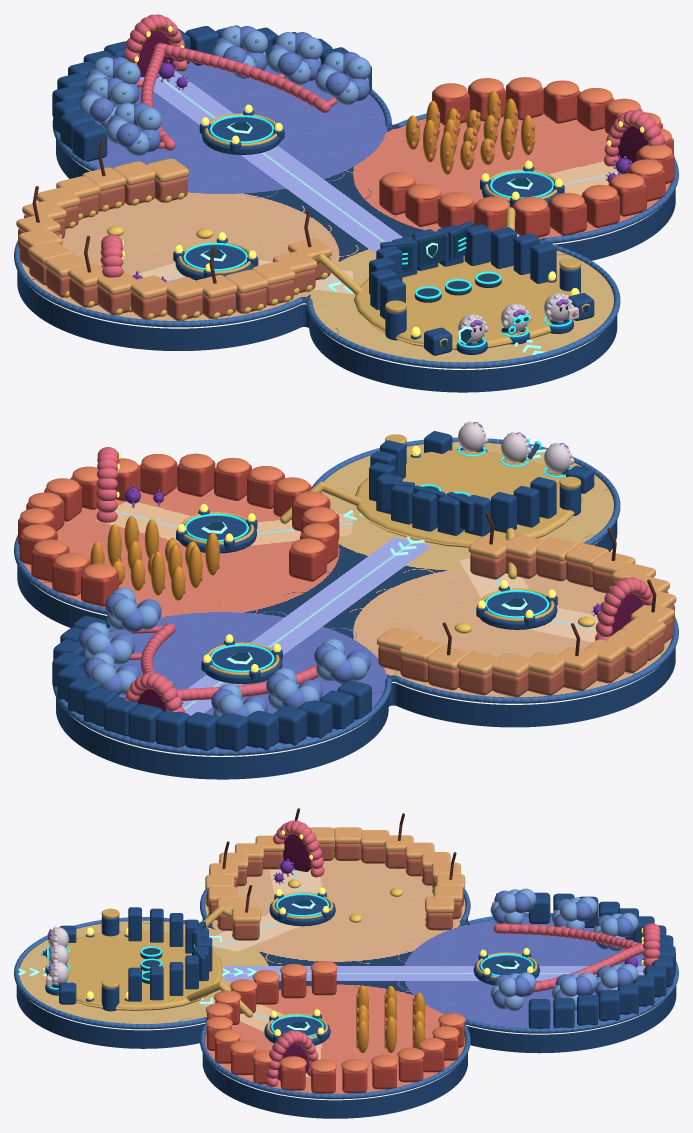
File: patrol.glb
3 renders of one model, top to bottom at view 1: azimuth 30°, elevation 25°; view 2: azimuth 150°, elevation 25°; view 3: azimuth 270°, elevation 25°, orthographic. The views are drawn at different scales.
Visible parts, largest first — view 1: Piso pintado, commandblue, skinorange, gutred, commandgold, skindeep, gutlight, lunglight, rimblue, salmon, lungblue, orange2 (+10 smaller); view 2: Piso pintado, commandblue, skinorange, gutred, commandgold, skindeep, gutlight, rimblue, salmon, lunglight, orange2, lungblue (+8 smaller); view 3: Piso pintado, commandblue, commandgold, gutred, skinorange, gutlight, rimblue, salmon, skindeep, lunglight, lungblue, orange2 (+4 smaller).
Part boxes in pixels (box(x1,y1,x2,y2)): Piso pintado: box(21, 61, 670, 362); commandblue: box(17, 25, 675, 392); skinorange: box(16, 158, 332, 300); gutred: box(379, 83, 674, 237); commandgold: box(178, 113, 589, 349); skindeep: box(18, 23, 653, 320); gutlight: box(381, 77, 672, 213); lunglight: box(79, 26, 370, 156); rimblue: box(14, 89, 678, 368); salmon: box(100, 14, 665, 277); lungblue: box(81, 26, 369, 152); orange2: box(405, 91, 534, 174); Piso pintado: box(24, 442, 671, 749); commandblue: box(17, 431, 675, 779); skinorange: box(377, 534, 676, 676); gutred: box(18, 460, 339, 606); commandgold: box(181, 434, 582, 675); skindeep: box(116, 452, 674, 697); gutlight: box(20, 453, 336, 593); rimblue: box(14, 437, 678, 755); salmon: box(96, 447, 655, 712); lunglight: box(84, 587, 367, 717); orange2: box(90, 515, 219, 600); lungblue: box(78, 593, 370, 716); Piso pintado: box(19, 853, 668, 1093); commandblue: box(16, 892, 676, 1118); commandgold: box(48, 892, 537, 1039); gutred: box(206, 971, 464, 1093); skinorange: box(205, 827, 465, 923); gutlight: box(205, 960, 465, 1072); rimblue: box(14, 847, 678, 1099); salmon: box(266, 820, 660, 1086); skindeep: box(206, 828, 643, 973); lunglight: box(490, 888, 638, 1011); lungblue: box(493, 890, 633, 1008); orange2: box(356, 985, 425, 1052).
Size of the model in its own units: 28.86 by 4.03 by 32.56.
Materials: 49 (49 with a texture image).
